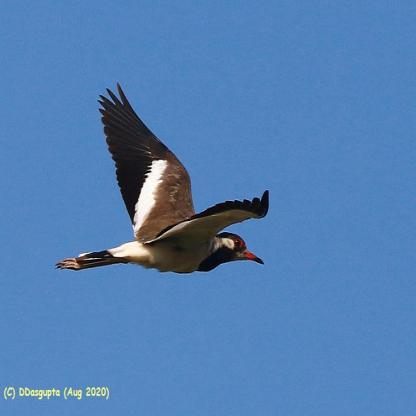Burung: (55, 82, 268, 272)
